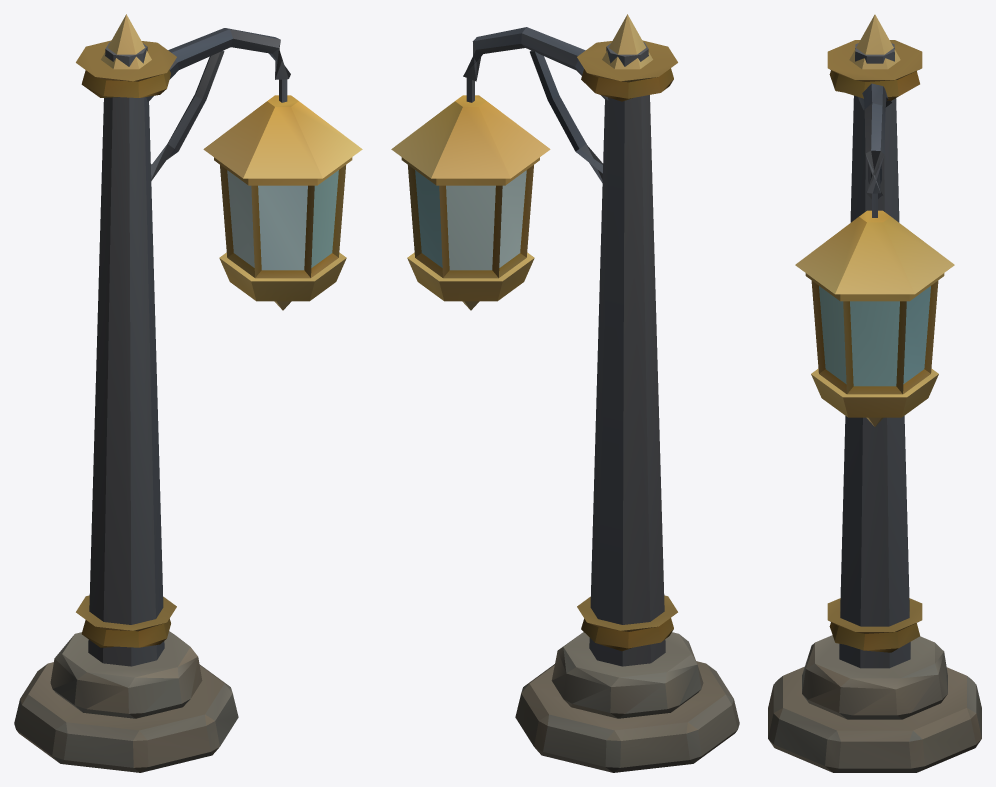
The model's file is glass-lantern.low.glb.
The picture shows the model from 3 angles, left to right: view 1: azimuth 30°, elevation 25°; view 2: azimuth 150°, elevation 25°; view 3: azimuth 270°, elevation 25°; orthographic projection.
Visible parts, largest first — view 1: glass-lantern; view 2: glass-lantern; view 3: glass-lantern.
Part boxes in pixels (x1,y1,x2,y2): glass-lantern: (14, 14, 362, 772); glass-lantern: (391, 14, 739, 772); glass-lantern: (768, 14, 981, 772).
Size of the model in its own units: 0.6701 by 1.48 by 0.4006.
